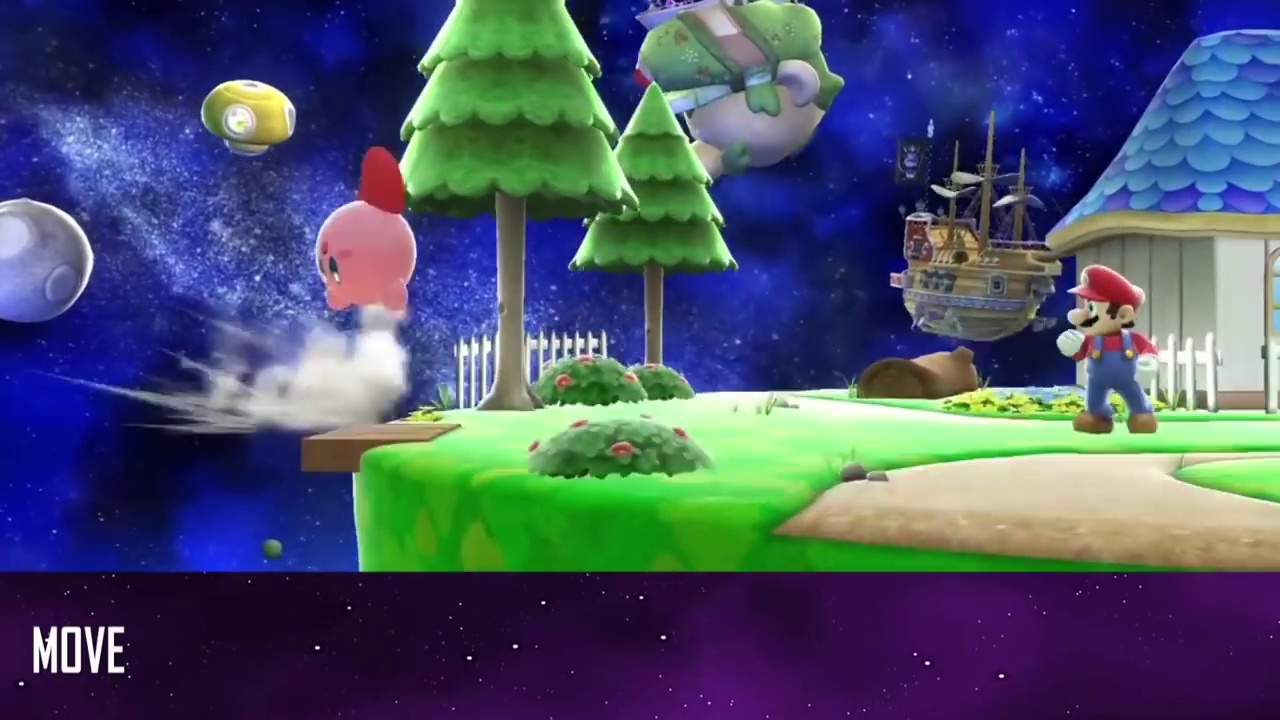Mario: (1055, 266, 1158, 434)
